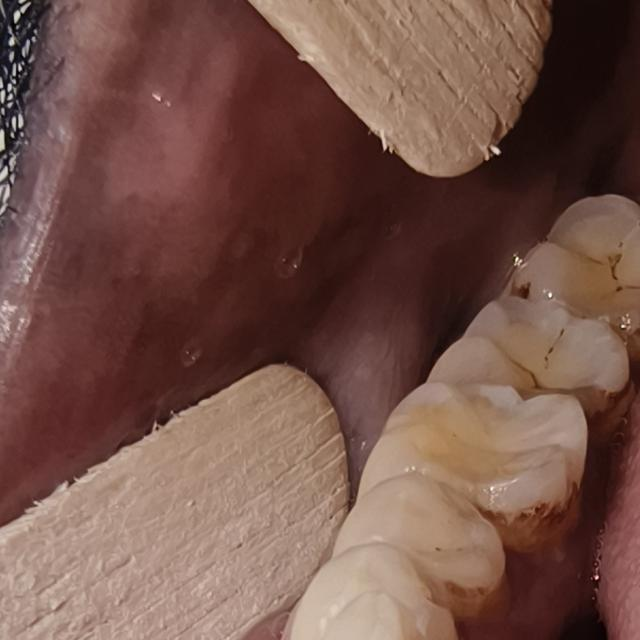leukoplakia-detection: (24, 48, 264, 364), (311, 239, 429, 477)
processing_area: (3, 0, 567, 522)
